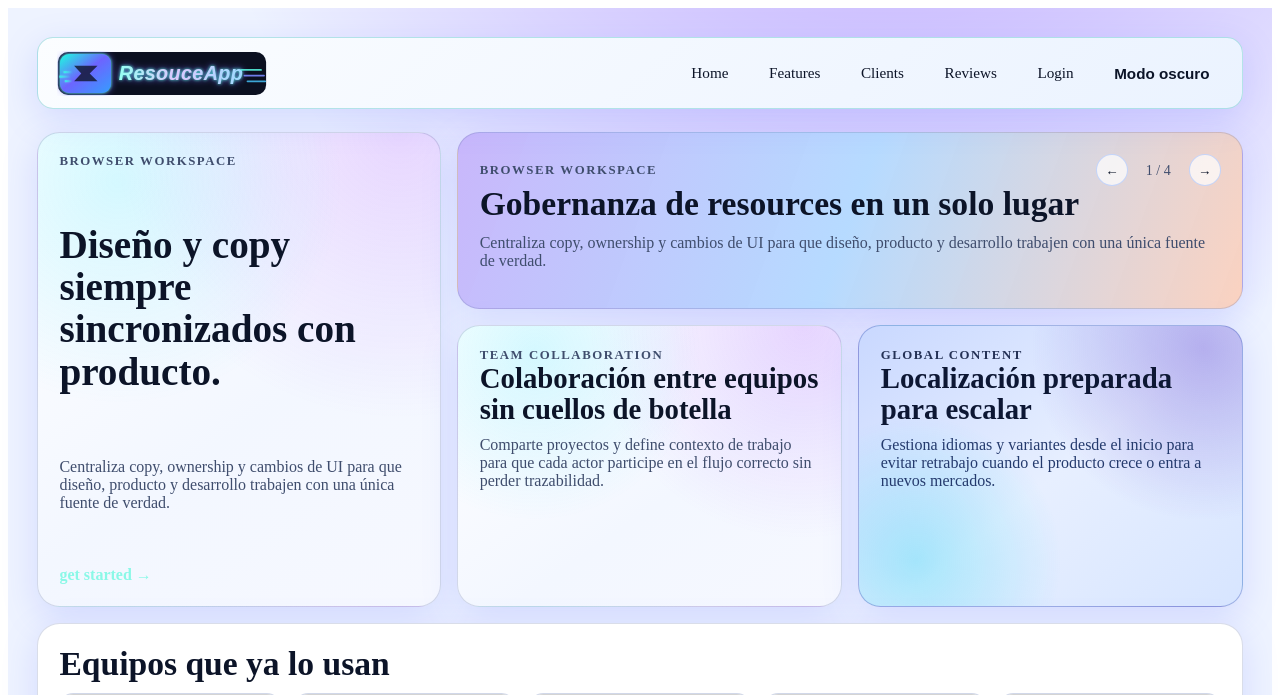
Test: App Home/Login/Projects flow › opens login screen from top navigation
Click the link "Login".
click(1056, 73)  # box [1037,64,1074,81]
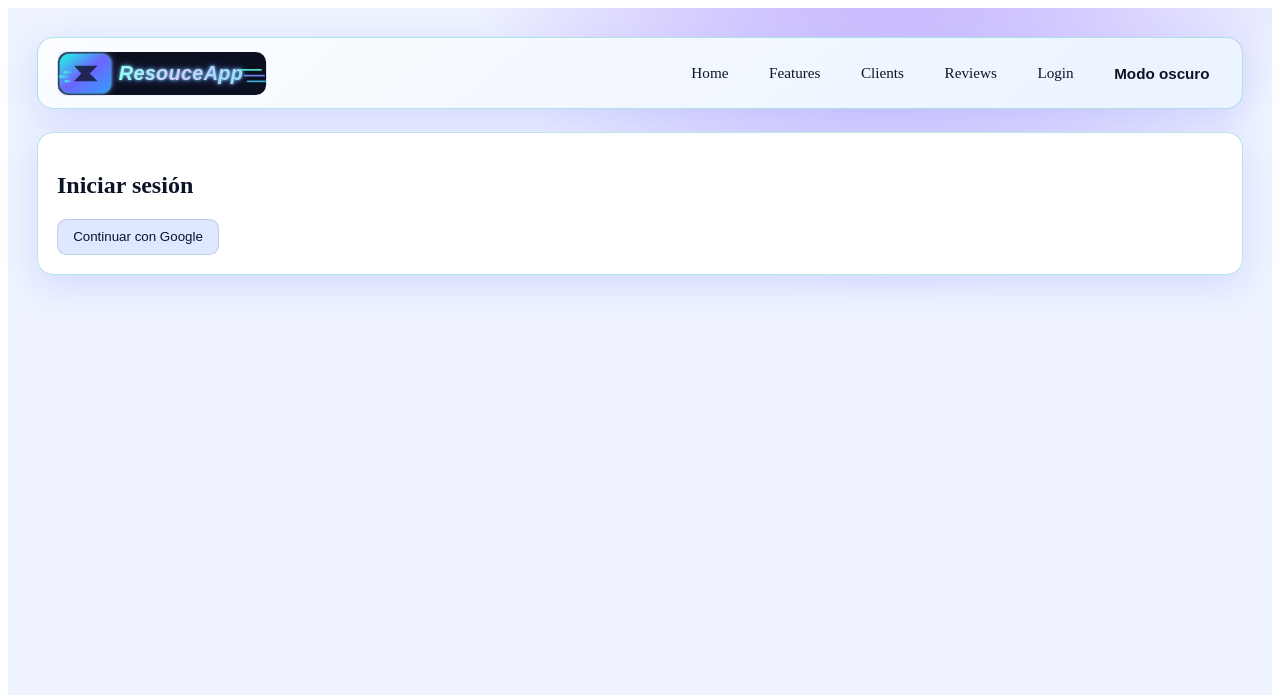
Result: the heading "Iniciar sesión" is shown at [57,172,193,198]
Result: the button "Continuar con Google" is shown at [57,219,219,255]
